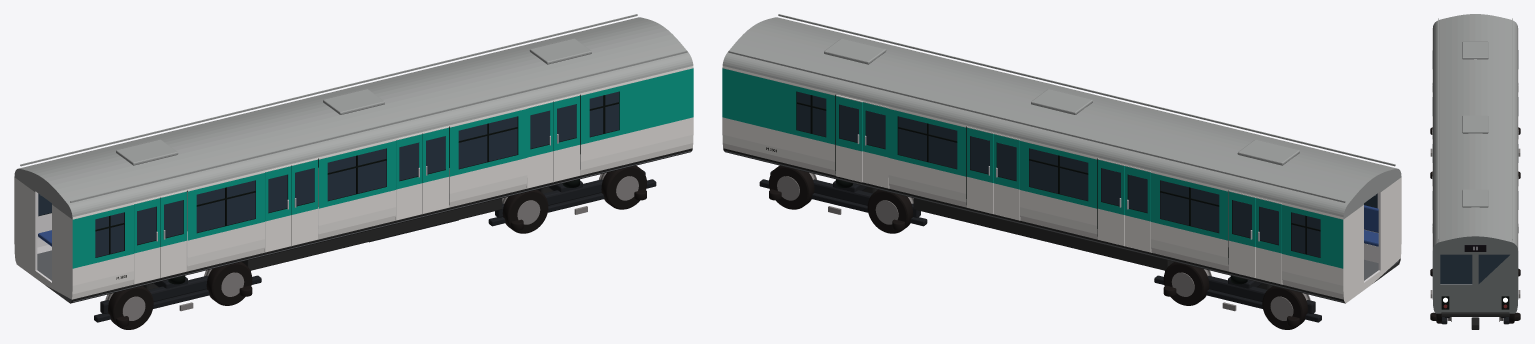
File: mp59__cab.glb
3 views of the same model, side by side, from view 1: azimuth 30°, elevation 25°; view 2: azimuth 150°, elevation 25°; view 3: azimuth 270°, elevation 25° (orthographic). The views are drawn at different scales.
Visible parts, largest first — view 1: mp59_cab; view 2: mp59_cab; view 3: mp59_cab.
Part boxes in pixels (x1,y1,x2,y2): mp59_cab: (14,14,693,329); mp59_cab: (722,14,1401,329); mp59_cab: (1430,14,1520,329).
Bounding box in the file's own units: 15.6 × 3.48 × 2.6.
Materials: 8 (3 with a texture image).
